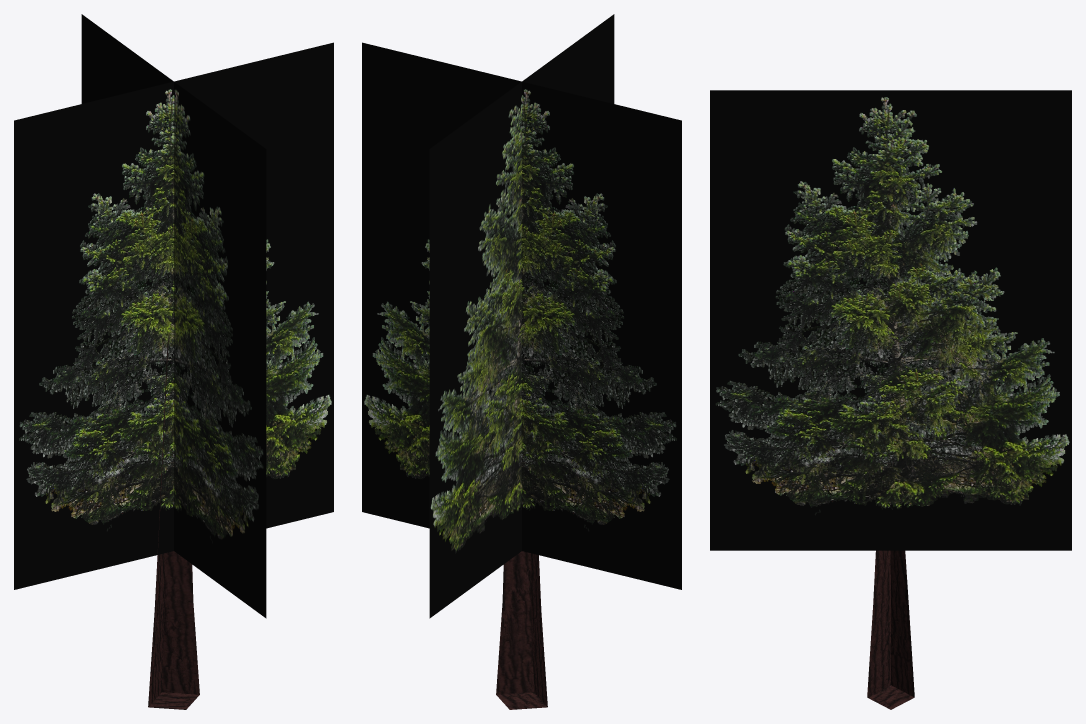
3 renders of one model, left to right at view 1: azimuth 30°, elevation 25°; view 2: azimuth 150°, elevation 25°; view 3: azimuth 270°, elevation 25°, orthographic. The views are drawn at different scales.
Visible parts, largest first — view 1: Leaves1, Leaves2, Trunk; view 2: Leaves1, Leaves2, Trunk; view 3: Leaves2, Trunk.
Part boxes in pixels (x1,y1,x2,y2): Leaves1: [14, 42, 333, 589]; Leaves2: [81, 14, 266, 618]; Trunk: [148, 330, 199, 709]; Leaves1: [362, 42, 681, 589]; Leaves2: [429, 14, 614, 618]; Trunk: [496, 551, 547, 709]; Leaves2: [710, 90, 1071, 550]; Trunk: [867, 550, 914, 709].
Bounding box in the file's own units: 4.12 × 7.62 × 4.12.
2 materials, 2 textured.
